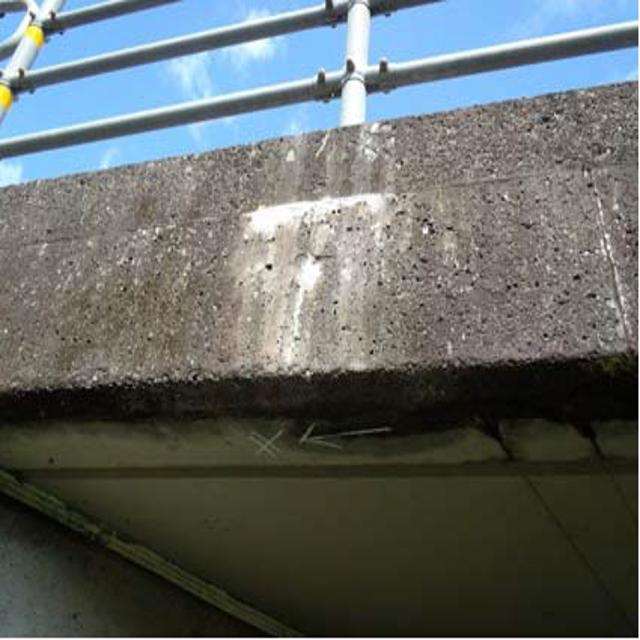freelime: (235, 172, 398, 237)
